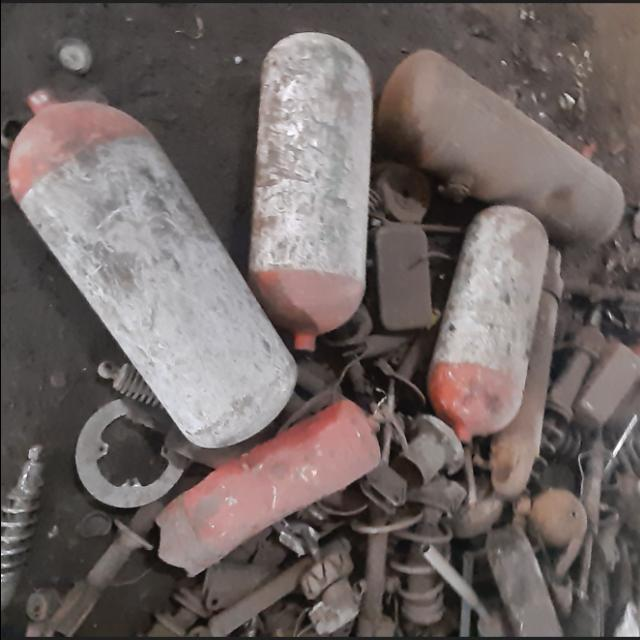cylinder: (6, 86, 298, 449), (246, 32, 372, 352), (429, 202, 549, 444)
shock absorber: (1, 446, 42, 606)
